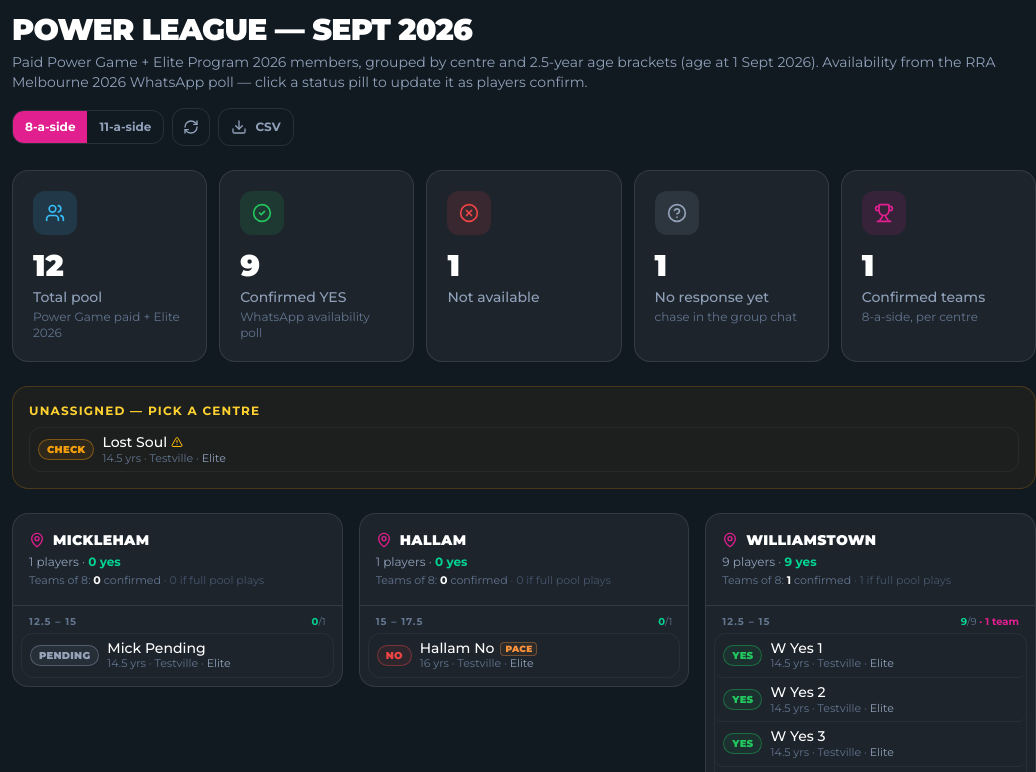
Test: PowerLeagueDashboard › switching to 11-a-side recomputes confirmed teams (9 yes → 0 teams)
Expected: the heading "Mickleham" is shown, top-left (53, 530), bottom-right (149, 550)
Click the button "11-a-side".
click(126, 127)  # box top-left (88, 111), bottom-right (164, 143)
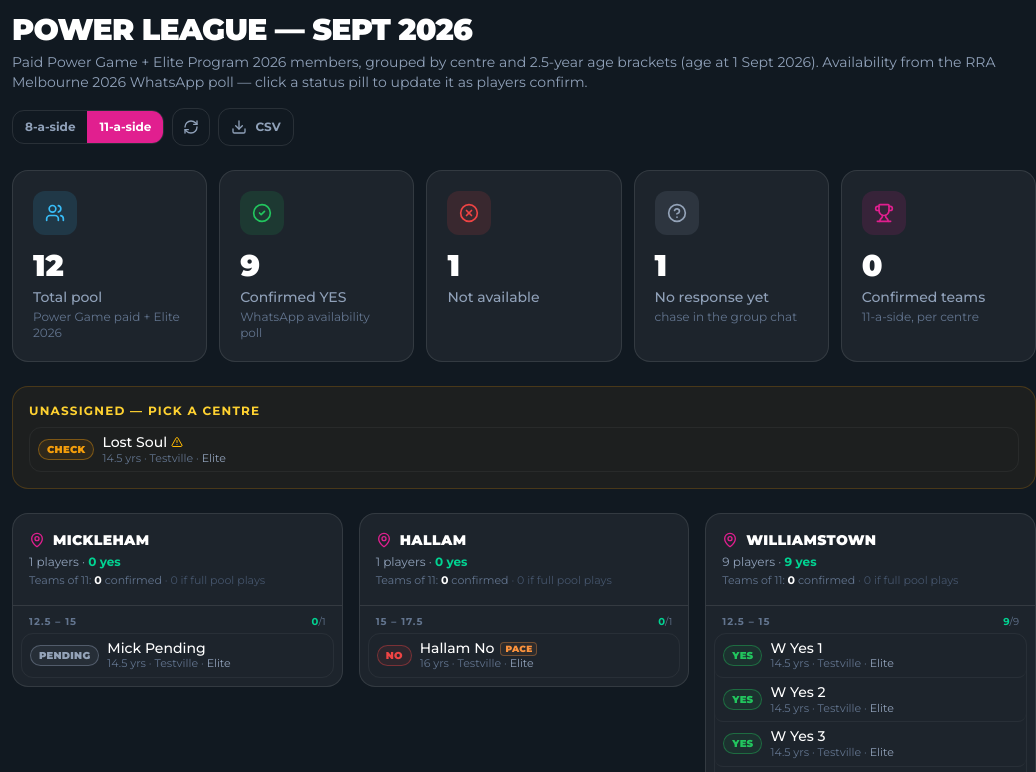
Expected: the 1st text "0" is shown, top-left (862, 247), bottom-right (883, 284)
